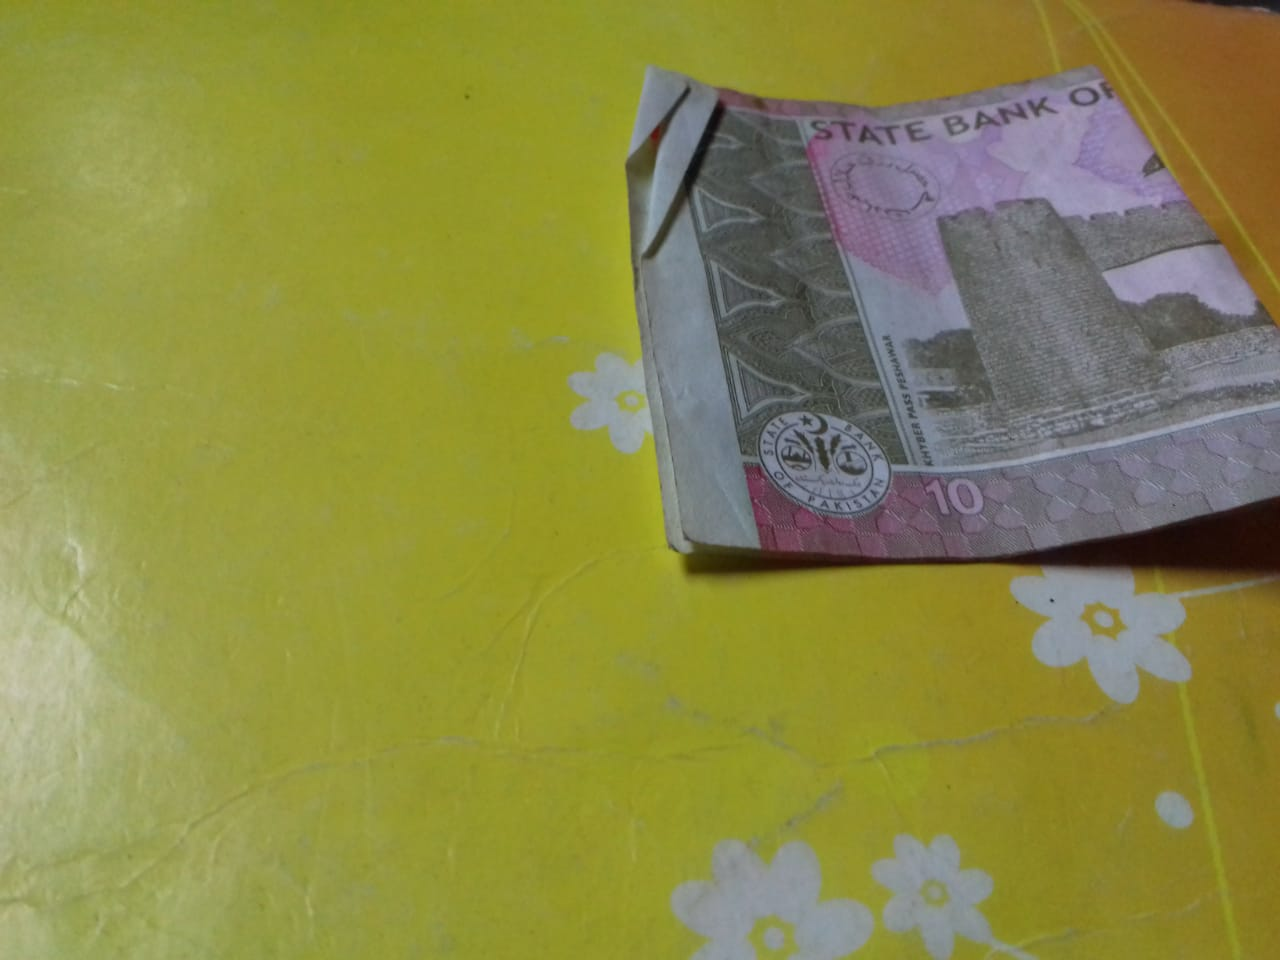10 rupee: (593, 29, 1279, 592)
